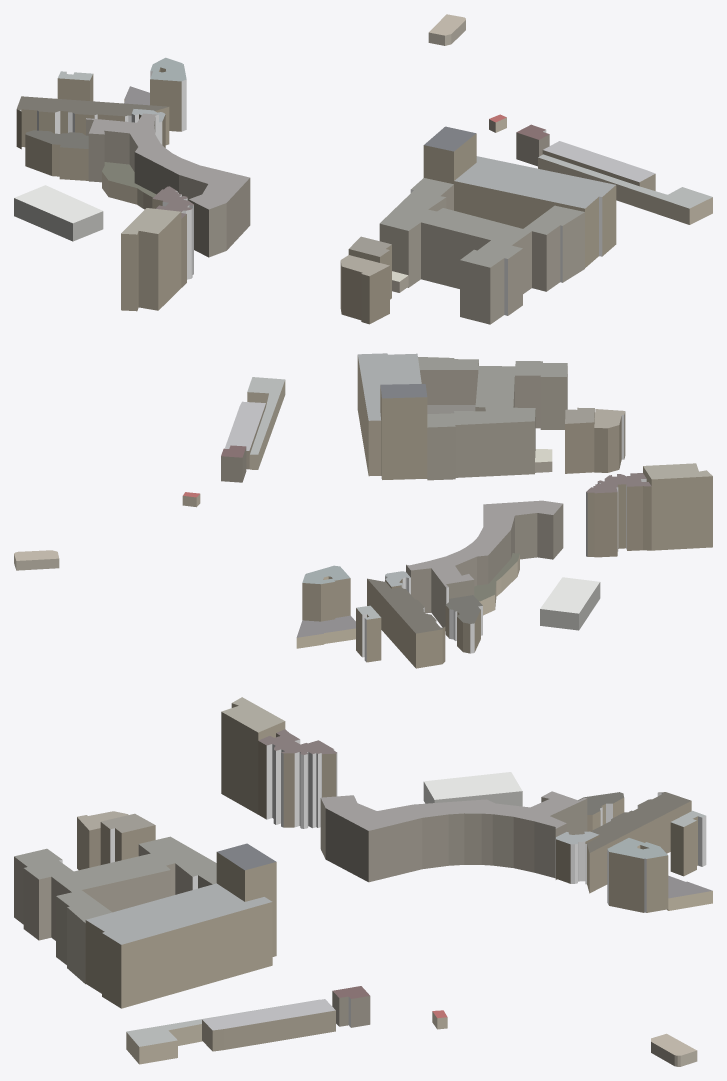
3 views of the same model, one above another, from view 1: azimuth 30°, elevation 25°; view 2: azimuth 150°, elevation 25°; view 3: azimuth 270°, elevation 25° (orthographic). The views are drawn at different scales.
Parts seen in each view (by area): view 1: tuile; view 2: tuile; view 3: tuile.
Part boxes in pixels (left/top/right/bottom): tuile: left=14, top=14, right=712, bottom=324; tuile: left=14, top=353, right=712, bottom=668; tuile: left=14, top=697, right=712, bottom=1066.
Bounding box in the file's own units: 270 × 44 × 278.
